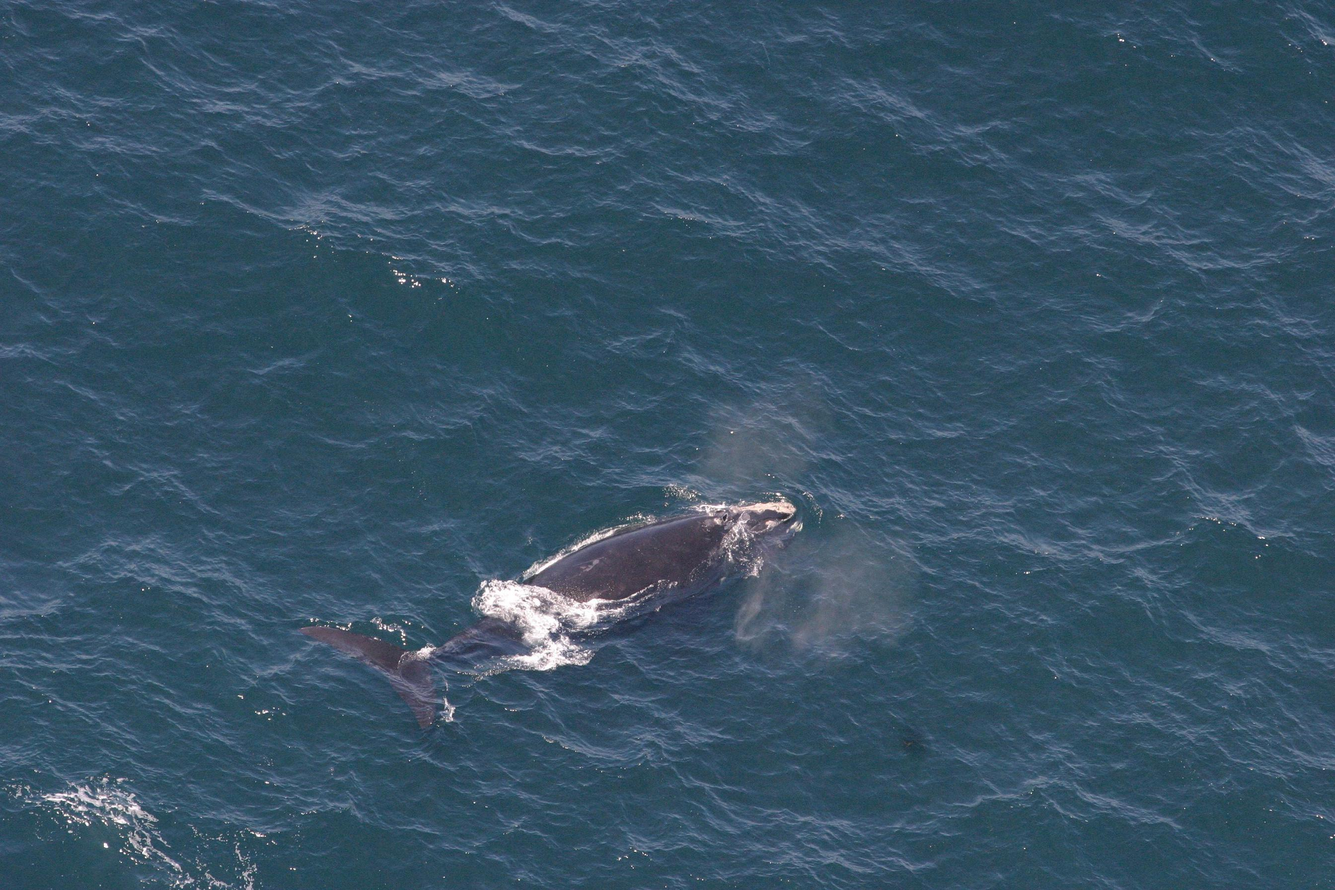whale: (291, 481, 810, 752)
